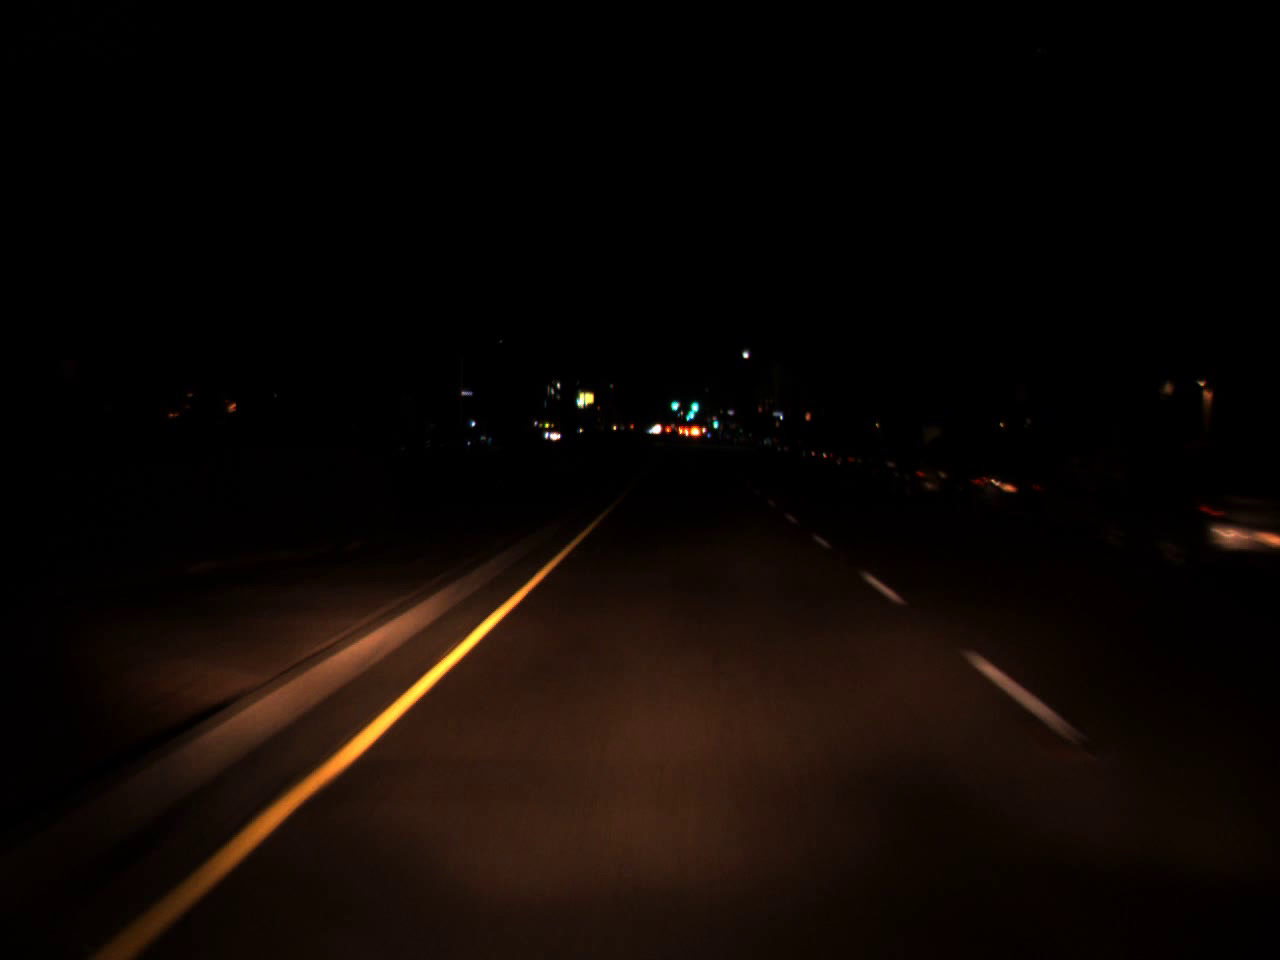go: (682, 400, 696, 424), (687, 392, 699, 416), (669, 390, 679, 414), (712, 416, 719, 428)
